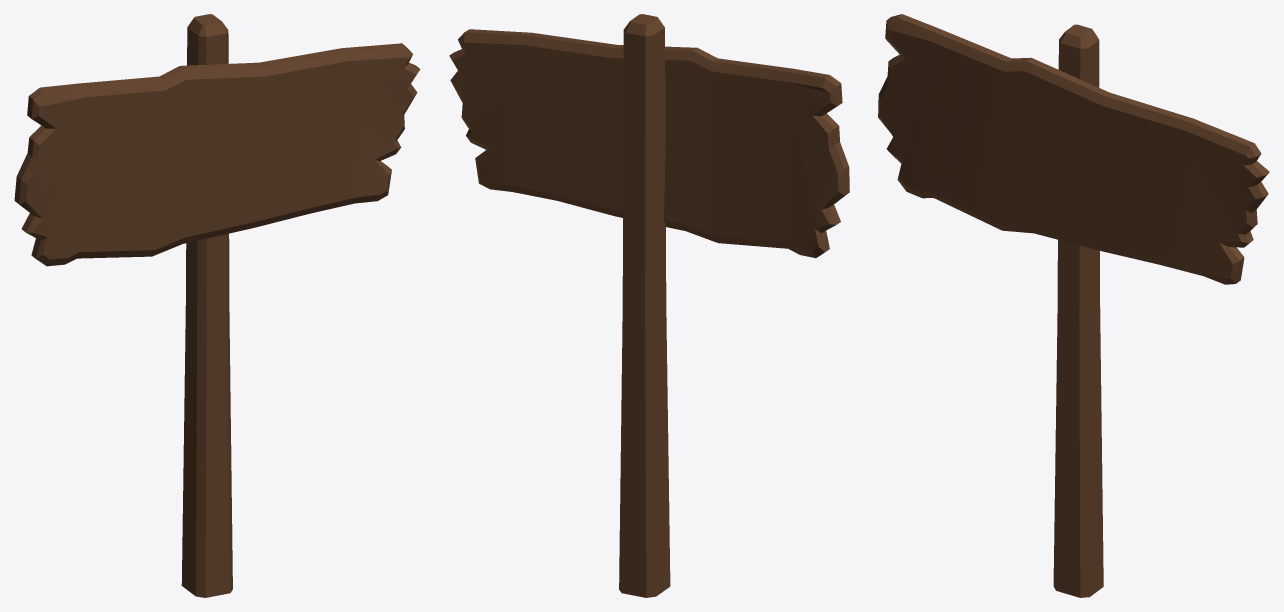
The model's file is Wooden_Sign.fbx.
3 renders of one model, left to right at view 1: azimuth 30°, elevation 25°; view 2: azimuth 150°, elevation 25°; view 3: azimuth 330°, elevation 25°, orthographic. The views are drawn at different scales.
Parts seen in each view (by area): view 1: Sign; view 2: Sign; view 3: Sign.
Part boxes in pixels (bbox=[...]): Sign: bbox=[14, 14, 420, 597]; Sign: bbox=[449, 14, 849, 597]; Sign: bbox=[878, 14, 1269, 597].
Size of the model in its own units: 108 by 148 by 13.11.
